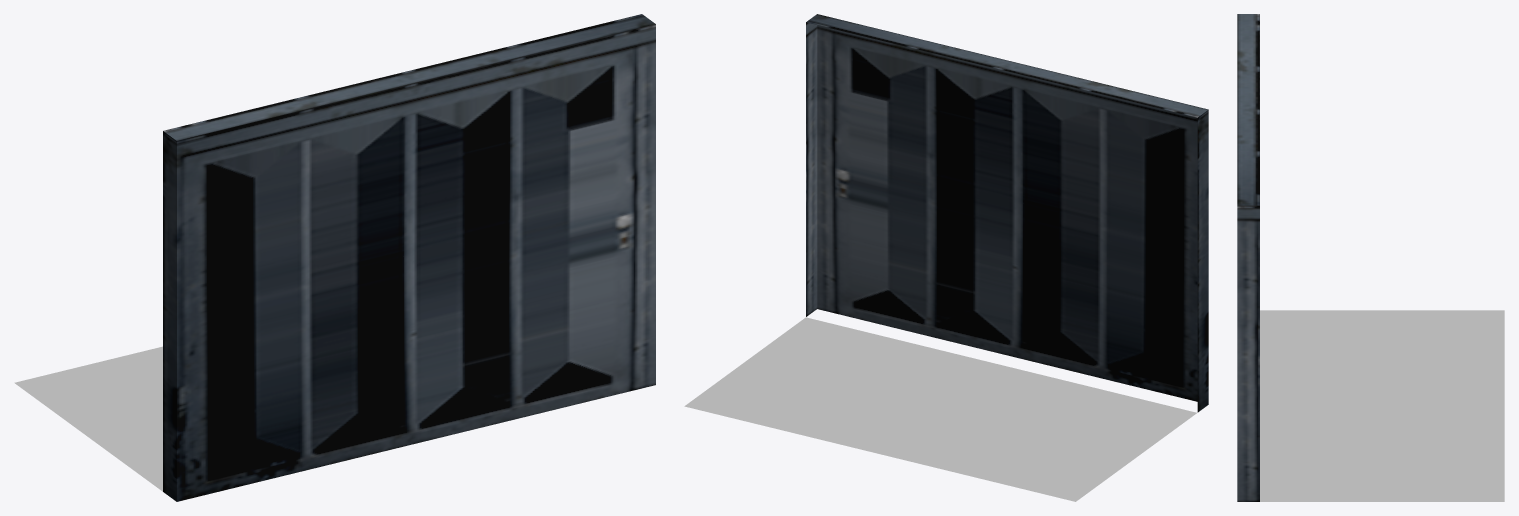
Rendered from ESTADIO_muretePuerta.fbx.
The picture shows the model from 3 angles, left to right: view 1: azimuth 30°, elevation 25°; view 2: azimuth 150°, elevation 25°; view 3: azimuth 270°, elevation 25°; orthographic projection. The views are drawn at different scales.
Parts seen in each view (by area): view 1: ESTADIO_muretePuerta; view 2: ESTADIO_muretePuerta; view 3: ESTADIO_muretePuerta.
Boxes of the visible parts, x1,y1,x2,y2 form: ESTADIO_muretePuerta: (14, 14, 655, 501); ESTADIO_muretePuerta: (684, 14, 1208, 501); ESTADIO_muretePuerta: (1237, 14, 1504, 501).
Size of the model in its own units: 150 by 108 by 88.27.
